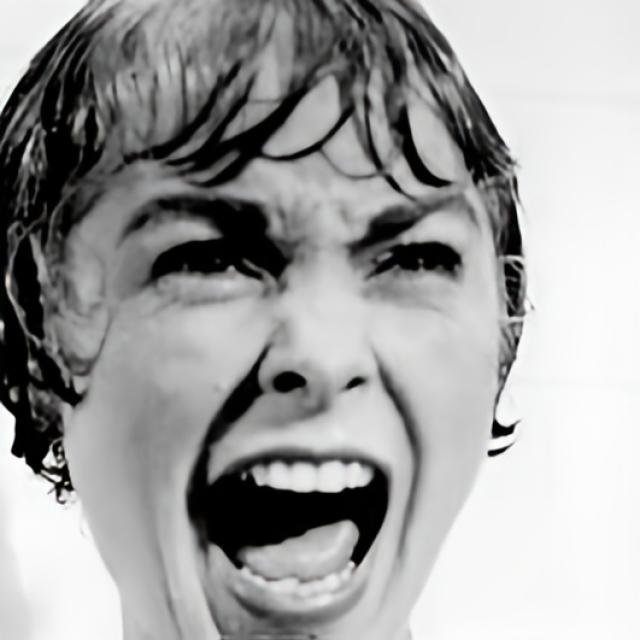fear: (30, 2, 500, 640)
